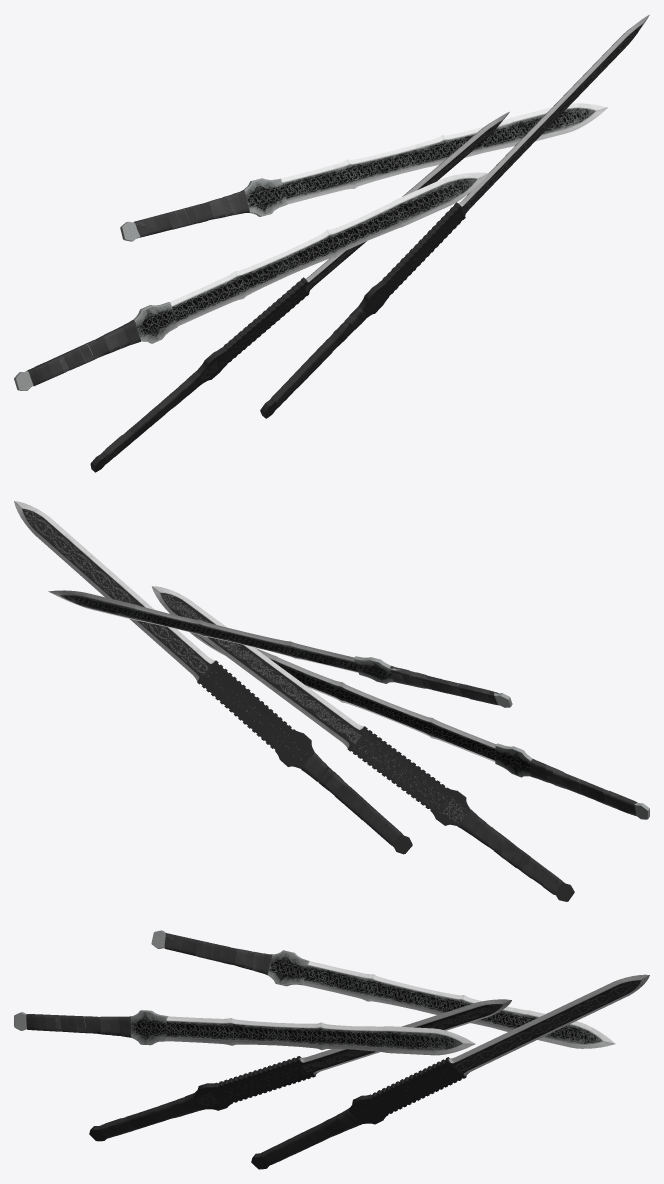
File: gothic_twin_cutlessess.glb
3 renders of one model, top to bottom at view 1: azimuth 30°, elevation 25°; view 2: azimuth 150°, elevation 25°; view 3: azimuth 330°, elevation 25°, orthographic. The views are drawn at different scales.
Visible parts, largest first — view 1: SM_DoubleSwords_Gray_1, SM_DoubleSwords_Gray_2, SM_DoubleSwords_Black_1, SM_DoubleSwords_Black_2; view 2: SM_DoubleSwords_Black_1, SM_DoubleSwords_Black_2, SM_DoubleSwords_Gray_1, SM_DoubleSwords_Gray_2; view 3: SM_DoubleSwords_Gray_1, SM_DoubleSwords_Gray_2, SM_DoubleSwords_Black_1, SM_DoubleSwords_Black_2.
Boxes of the visible parts, x1,y1,x2,y2 form: SM_DoubleSwords_Gray_1: [14, 172, 488, 390]; SM_DoubleSwords_Gray_2: [120, 103, 607, 241]; SM_DoubleSwords_Black_1: [260, 15, 649, 418]; SM_DoubleSwords_Black_2: [90, 112, 509, 472]; SM_DoubleSwords_Black_1: [14, 501, 412, 854]; SM_DoubleSwords_Black_2: [152, 586, 574, 901]; SM_DoubleSwords_Gray_1: [190, 632, 649, 819]; SM_DoubleSwords_Gray_2: [48, 590, 512, 707]; SM_DoubleSwords_Gray_1: [14, 1010, 475, 1055]; SM_DoubleSwords_Gray_2: [151, 930, 615, 1048]; SM_DoubleSwords_Black_1: [251, 974, 649, 1169]; SM_DoubleSwords_Black_2: [89, 999, 511, 1141].
Size of the model in its own units: 2.29 by 1.01 by 0.1891.
4 materials, 4 textured.
